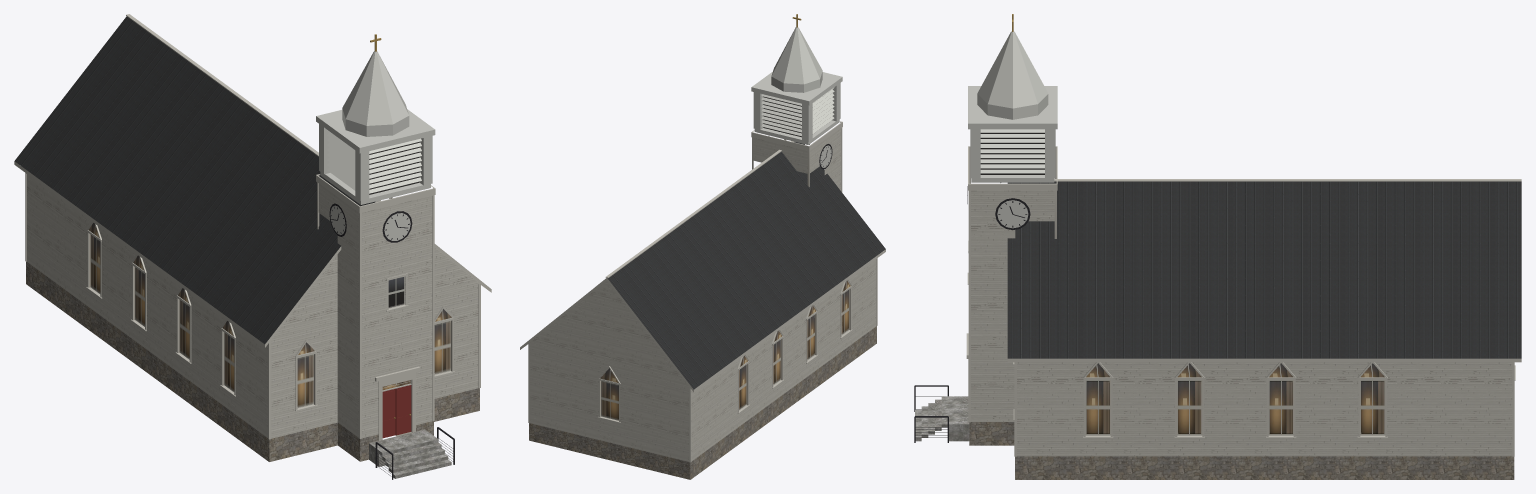
File: town_church.gltf
3 renders of one model, left to right at view 1: azimuth 30°, elevation 25°; view 2: azimuth 150°, elevation 25°; view 3: azimuth 270°, elevation 25°, orthographic. The views are drawn at different scales.
Parts seen in each view (by area): view 1: TownChurch_Roof, TownChurch_Walls, TownChurch_TowerWalls, TownChurch_Base, TownChurch_Trim, TownChurch_Window, TownChurch_Belfry, TownChurch_Spire, TownChurch_Louvres, TownChurch_Steps, TownChurch_Fascia, TownChurch_Ridge (+6 smaller); view 2: TownChurch_Roof, TownChurch_Walls, TownChurch_Base, TownChurch_Trim, TownChurch_Belfry, TownChurch_Window, TownChurch_Spire, TownChurch_Louvres, TownChurch_TowerWalls, TownChurch_Fascia, TownChurch_Ridge, TownChurch_BelfryDark (+1 smaller); view 3: TownChurch_Roof, TownChurch_Walls, TownChurch_Base, TownChurch_TowerWalls, TownChurch_Window, TownChurch_Trim, TownChurch_Spire, TownChurch_Belfry, TownChurch_Louvres, TownChurch_Fascia, TownChurch_Ridge, TownChurch_Steps (+3 smaller).
Boxes of the visible parts, x1,y1,x2,y2 form: TownChurch_Roof: (14,16,375,344); TownChurch_Walls: (27,174,479,438); TownChurch_TowerWalls: (318,183,432,438); TownChurch_Base: (26,261,479,461); TownChurch_Trim: (25,173,480,440); TownChurch_Window: (89,223,451,407); TownChurch_Belfry: (316,109,435,204); TownChurch_Spire: (342,51,409,136); TownChurch_Louvres: (327,130,421,193); TownChurch_Steps: (379,437,451,478); TownChurch_Fascia: (14,161,491,347); TownChurch_Ridge: (126,14,318,156); TownChurch_Roof: (607,142,885,389); TownChurch_Walls: (529,259,876,461); TownChurch_Base: (529,326,876,479); TownChurch_Trim: (528,121,877,462); TownChurch_Belfry: (751,71,842,144); TownChurch_Window: (600,280,850,420); TownChurch_Spire: (771,27,822,92); TownChurch_Louvres: (761,87,834,136); TownChurch_TowerWalls: (753,128,840,190); TownChurch_Fascia: (520,249,885,392); TownChurch_Ridge: (605,141,794,277); TownChurch_BelfryDark: (763,96,801,137); TownChurch_Roof: (1007,181,1521,358); TownChurch_Walls: (1017,362,1512,456); TownChurch_Base: (969,422,1514,479); TownChurch_TowerWalls: (971,190,1054,421); TownChurch_Window: (1085,363,1385,435); TownChurch_Trim: (966,146,1515,456); TownChurch_Spire: (977,31,1048,119); TownChurch_Belfry: (968,86,1057,182); TownChurch_Louvres: (980,129,1044,173); TownChurch_Fascia: (1007,358,1521,362); TownChurch_Ridge: (1054,179,1521,181); TownChurch_Steps: (915,396,948,441).
Size of what is drawn, in the model's own units: 12.9 by 21.9 by 29.18.
2 materials, 2 textured.
